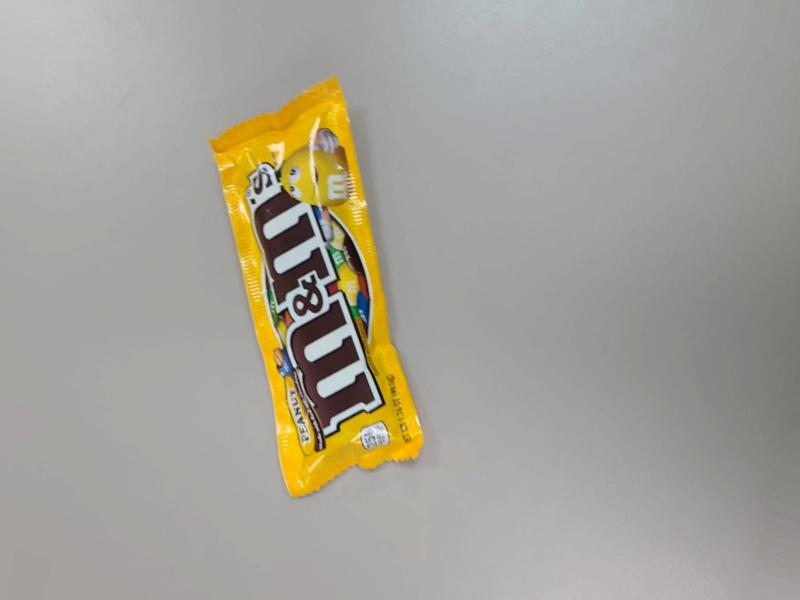m&m: (227, 111, 401, 438)
